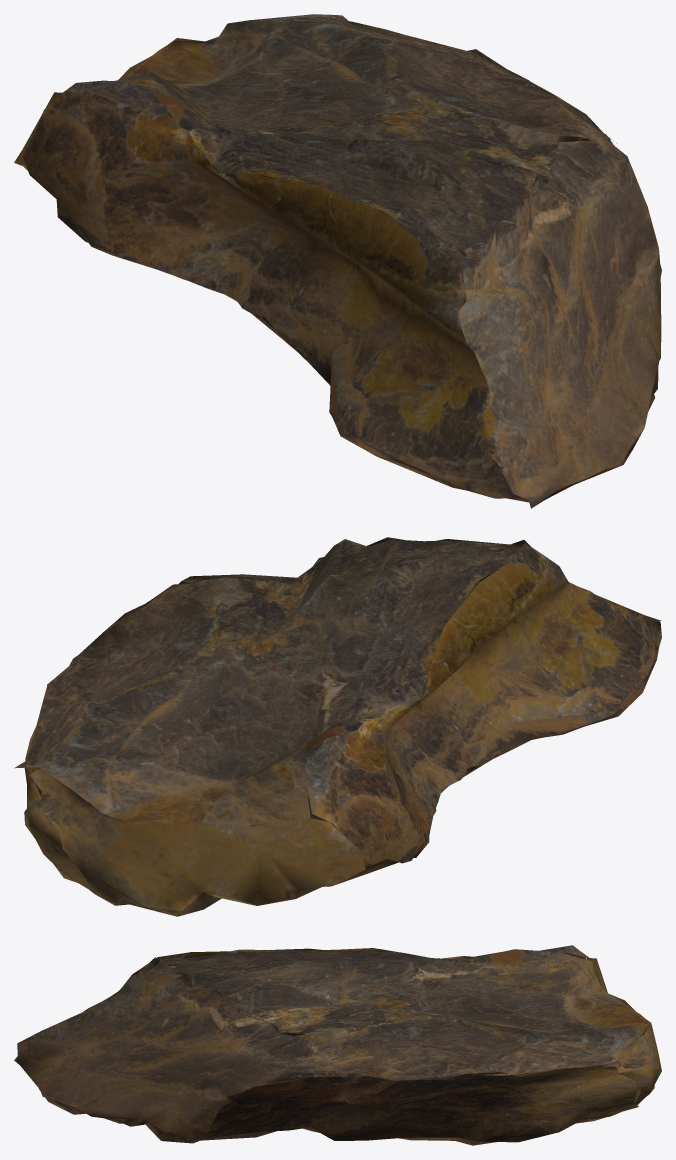
The model's file is rock_09.glb.
3 renders of one model, top to bottom at view 1: azimuth 30°, elevation 25°; view 2: azimuth 150°, elevation 25°; view 3: azimuth 270°, elevation 25°, orthographic. The views are drawn at different scales.
Parts seen in each view (by area): view 1: rock_09; view 2: rock_09; view 3: rock_09.
Part boxes in pixels (x1,y1,x2,y2): rock_09: (14, 14, 661, 508); rock_09: (14, 537, 661, 916); rock_09: (14, 945, 661, 1145).
Bounding box in the file's own units: 0.5133 × 0.2325 × 1.
Materials: 1 (1 with a texture image).
